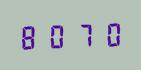eight: (18, 21, 43, 50)
seven: (70, 20, 95, 49)
zero: (44, 20, 69, 50), (96, 19, 121, 48)
